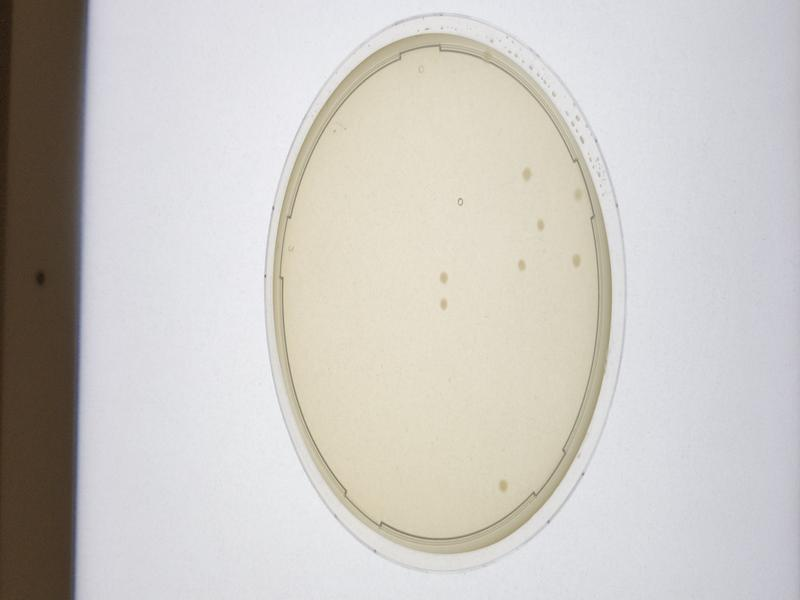colony: (514, 162, 541, 193), (526, 211, 552, 242), (424, 264, 453, 290), (432, 291, 458, 313), (492, 472, 512, 498), (513, 251, 531, 279), (567, 248, 586, 274)
